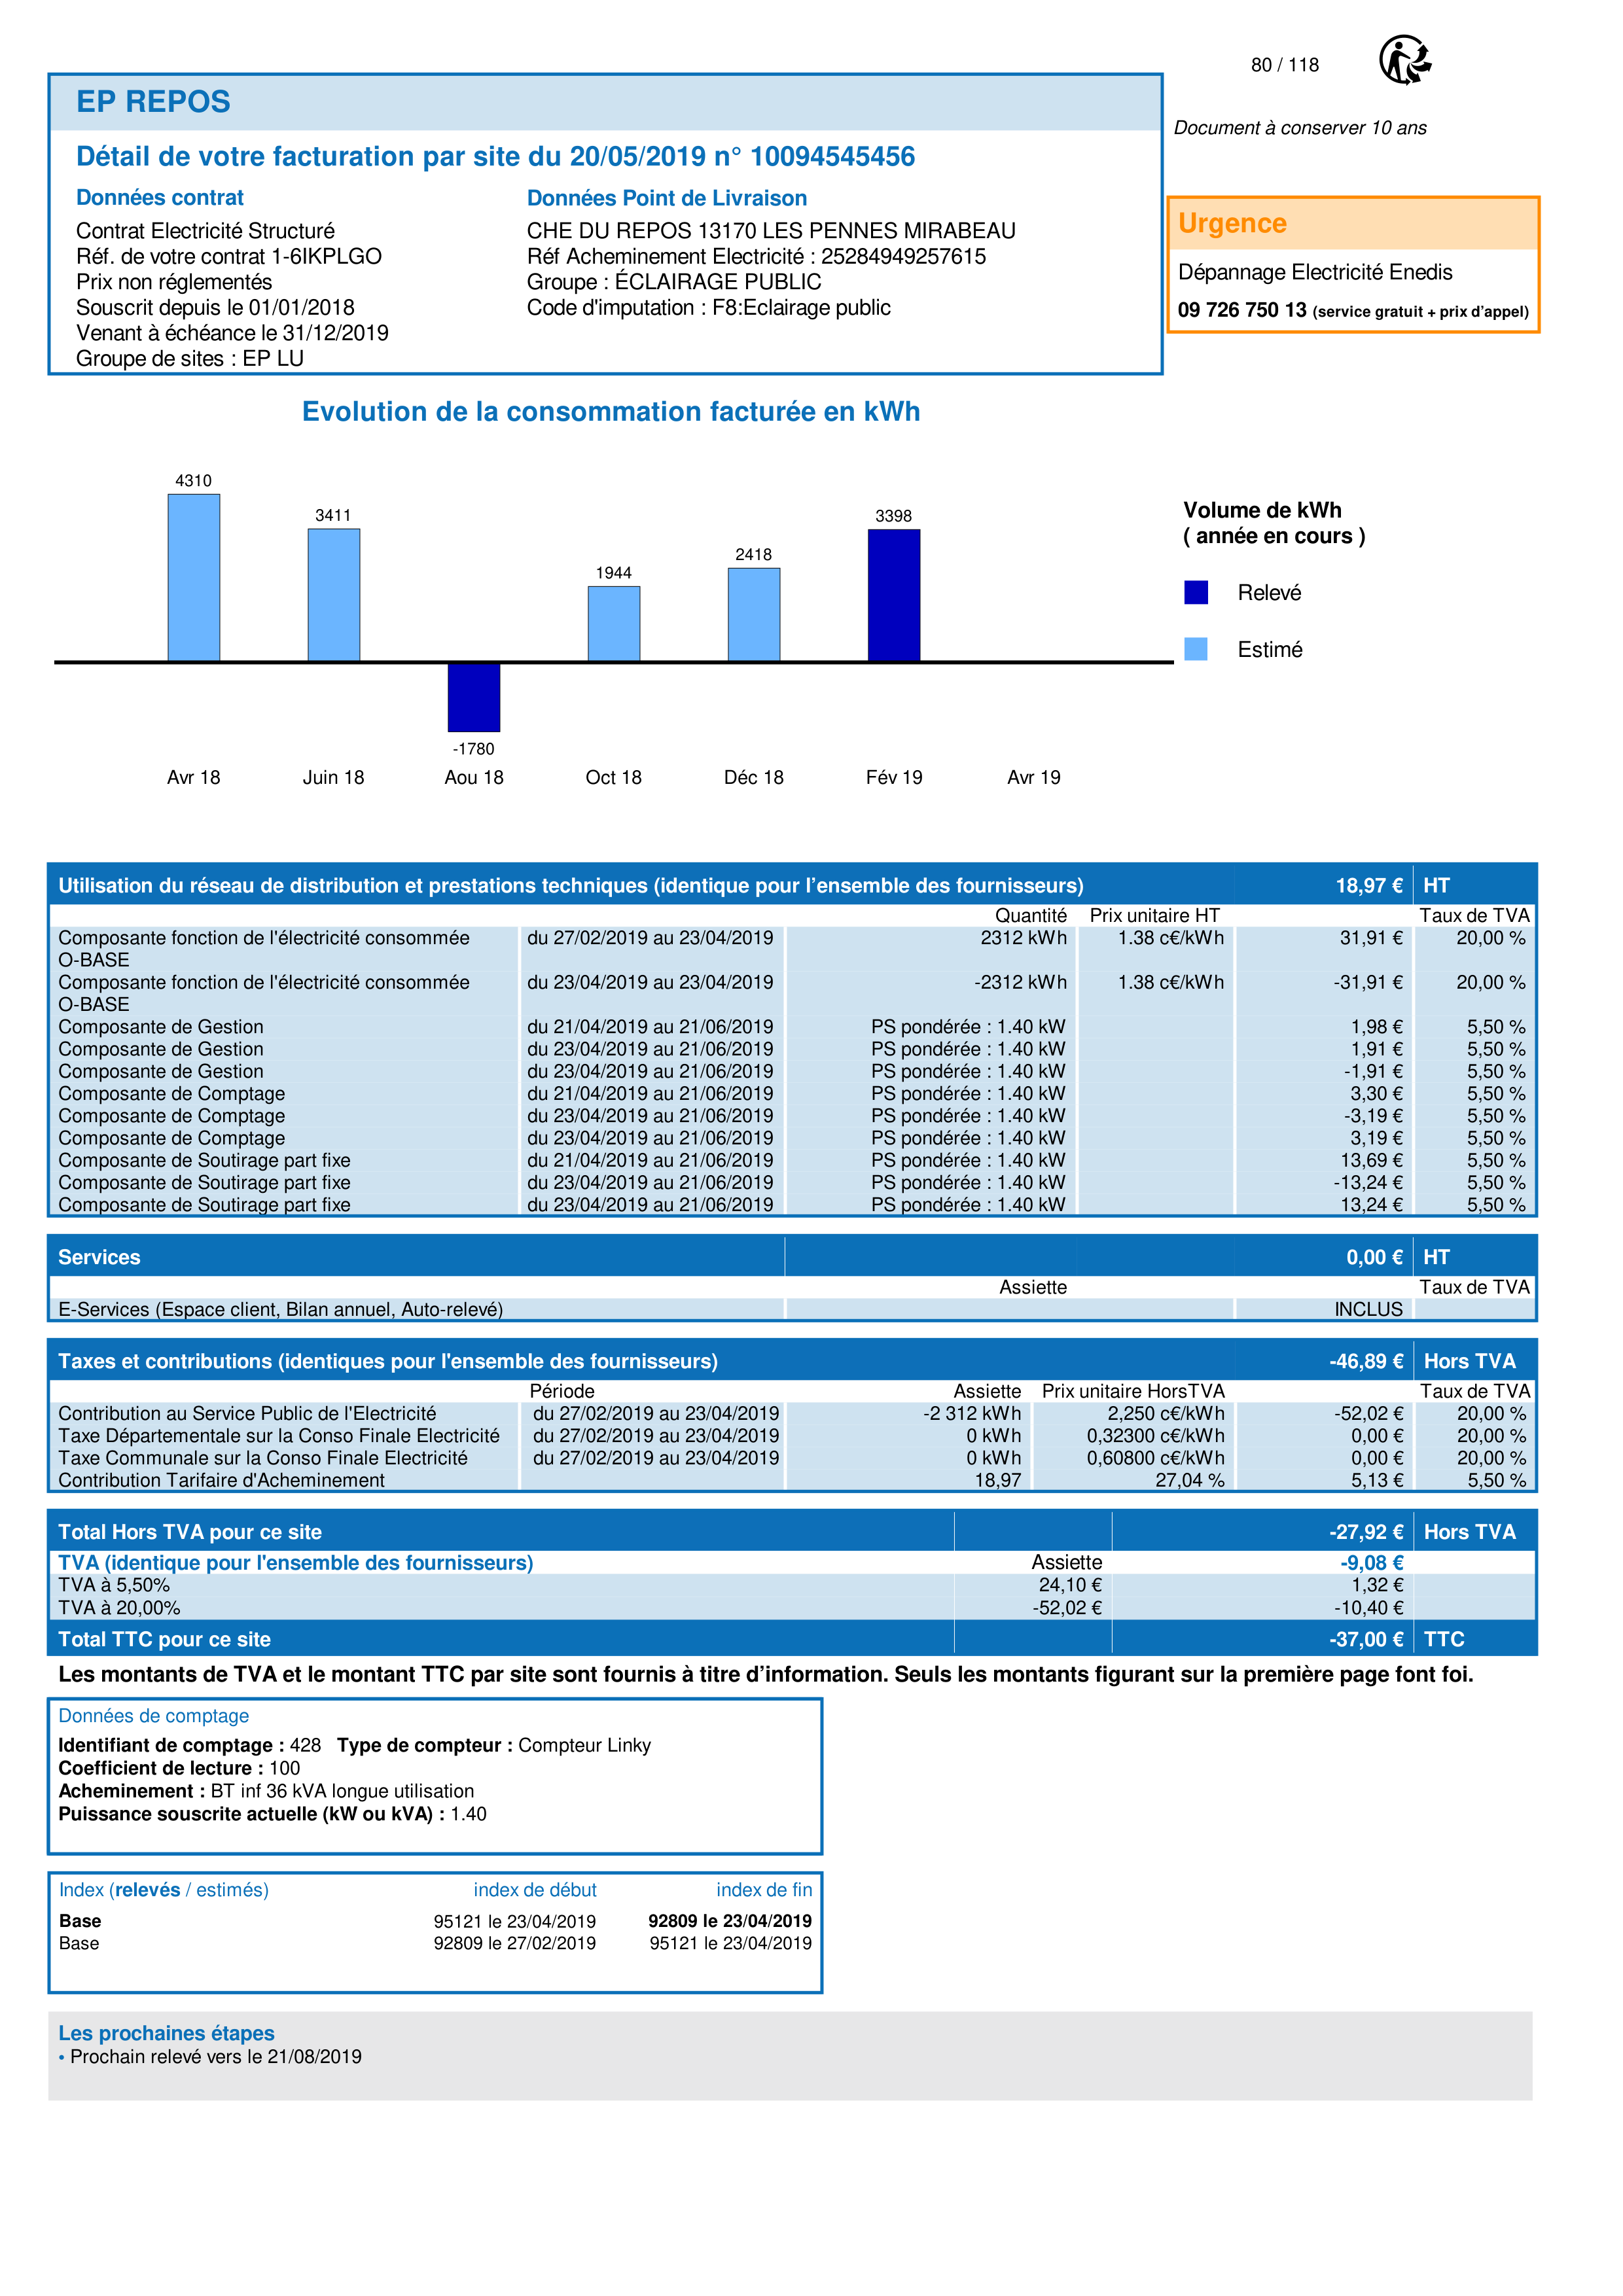area: (47, 1872, 823, 1990)
type_indicator: (48, 1873, 286, 1907)
